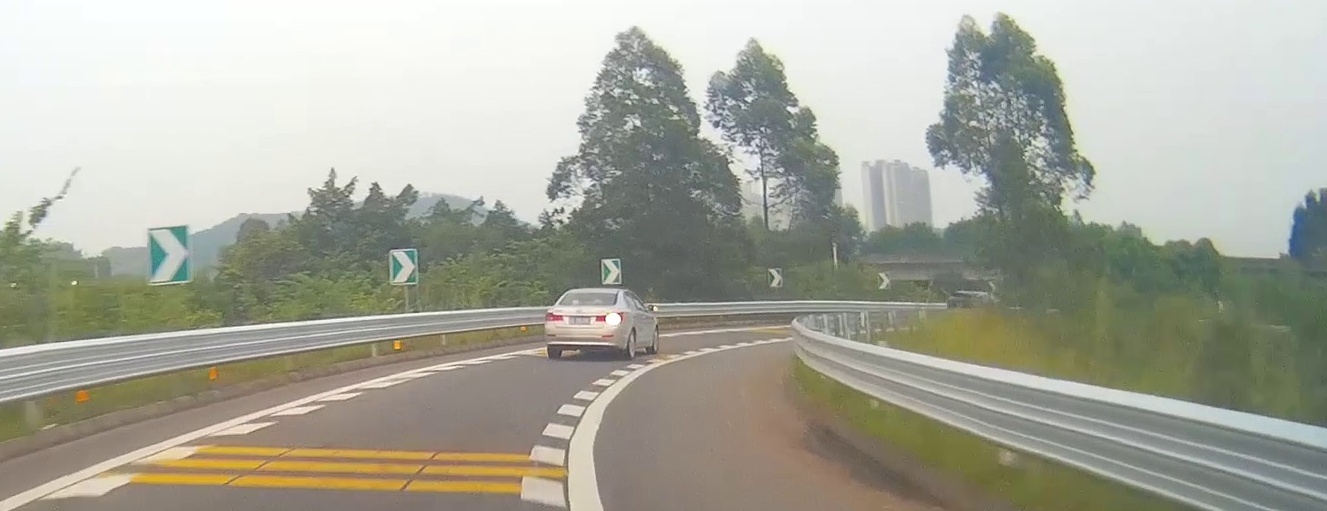L_light: (545, 312, 563, 321)
R_light: (595, 312, 623, 322)
T_light: (586, 293, 597, 296)
day-right: (545, 289, 624, 359)
